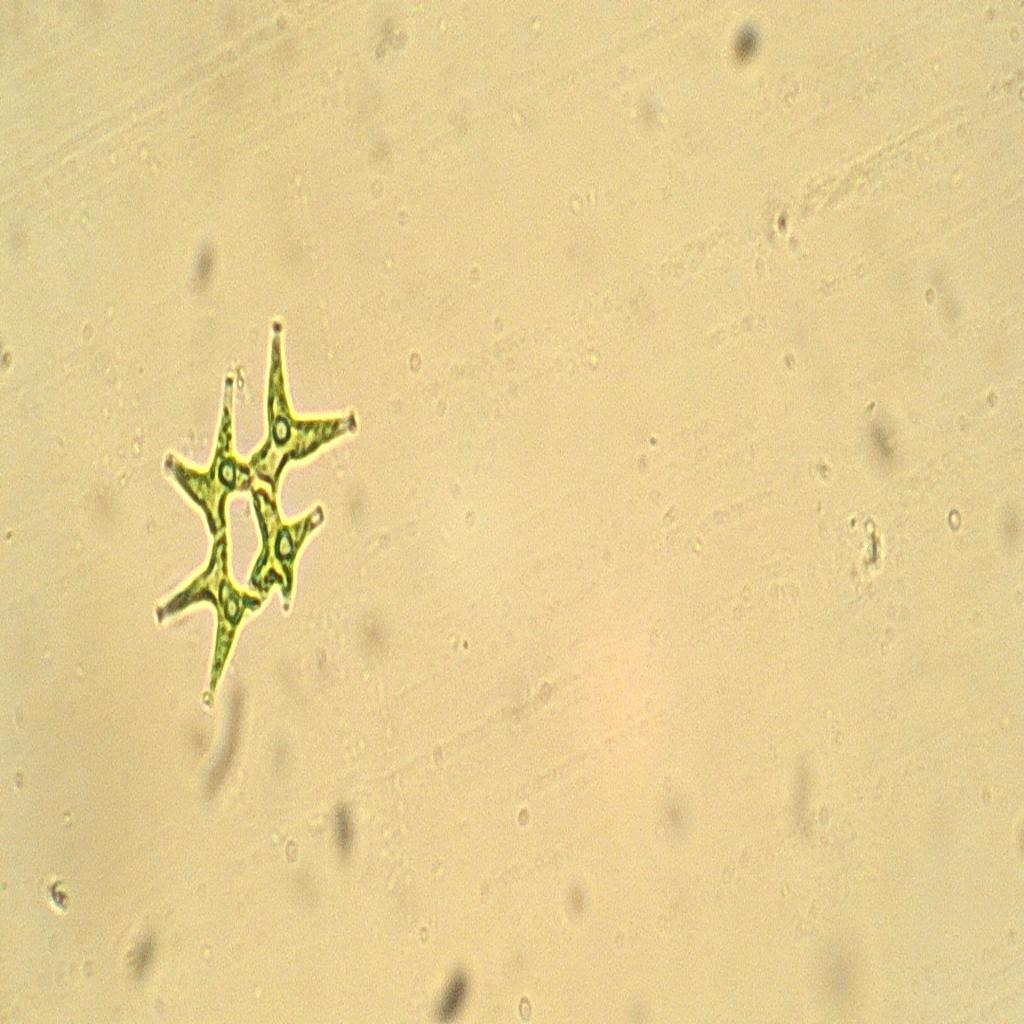Pediastrum_CT: (144, 302, 378, 718)
